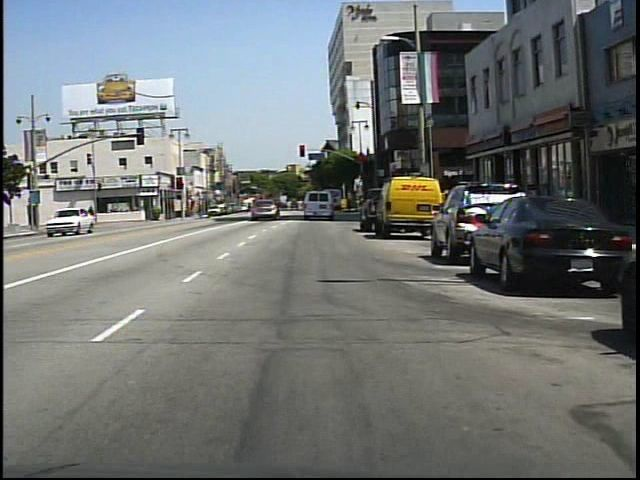person: (254, 192, 271, 222), (86, 203, 101, 230)
